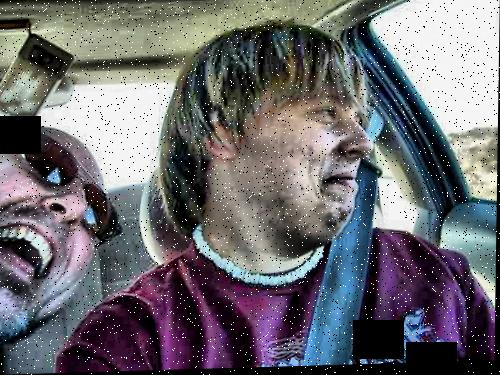seatbelt: (283, 145, 389, 360)
